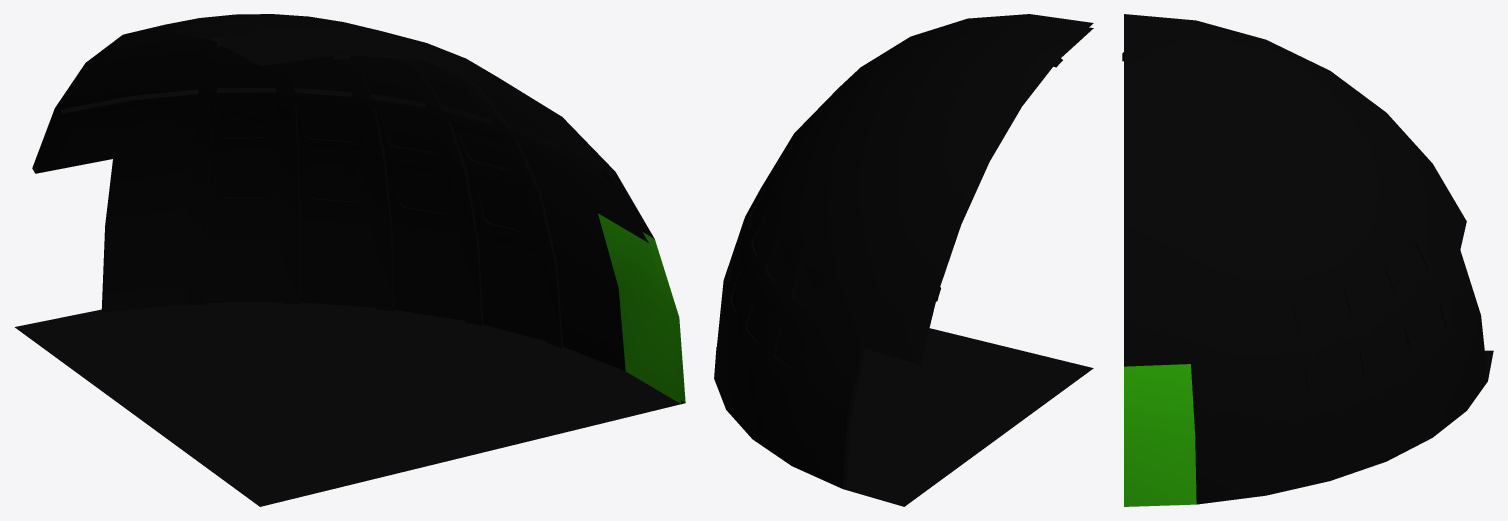
The model's file is Module_Serre_1porte_002.fbx.
3 views of the same model, side by side, from view 1: azimuth 30°, elevation 25°; view 2: azimuth 150°, elevation 25°; view 3: azimuth 270°, elevation 25° (orthographic). The views are drawn at different scales.
Visible parts, largest first — view 1: Object074; view 2: Object074; view 3: Object074.
Boxes of the visible parts, <box> form: Object074: <box>14,14,685,506</box>; Object074: <box>714,14,1093,506</box>; Object074: <box>1122,14,1493,506</box>.
Bounding box in the file's own units: 803 × 808 × 803.
